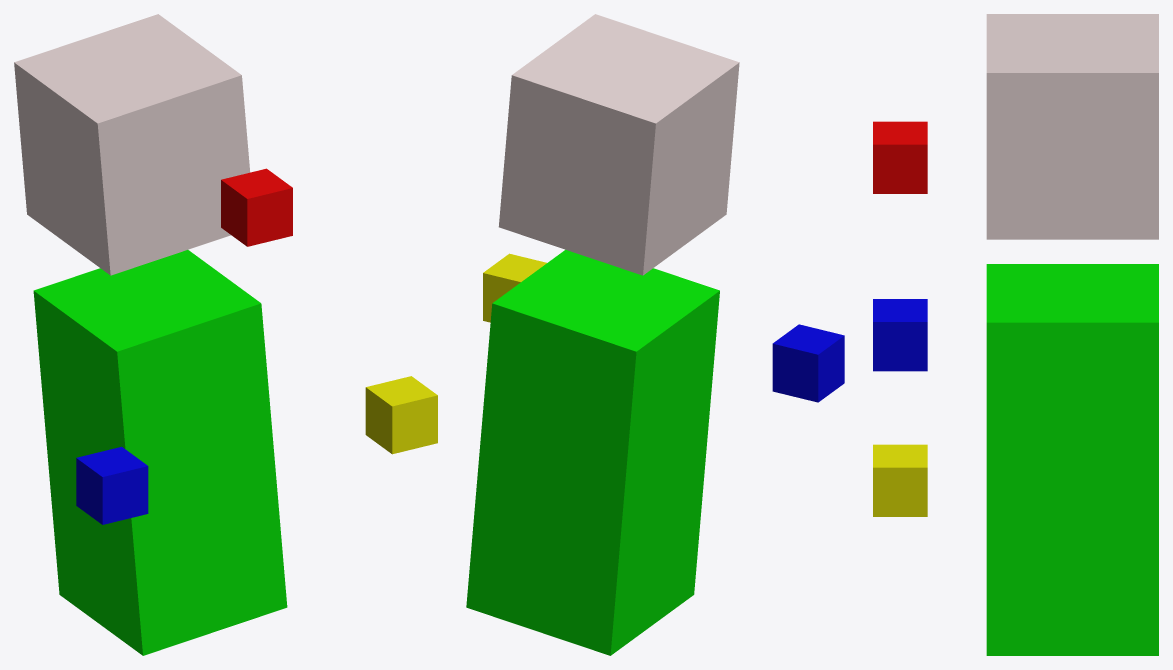
The model's file is Juggler.fbx.
The picture shows the model from 3 angles, left to right: view 1: azimuth 30°, elevation 25°; view 2: azimuth 150°, elevation 25°; view 3: azimuth 270°, elevation 25°; orthographic projection. The views are drawn at different scales.
Visible parts, largest first — view 1: JugglerMesh, Ball2, Ball1, Ball3; view 2: JugglerMesh, Ball1, Ball2; view 3: JugglerMesh, Ball3, Ball2, Ball1.
Part boxes in pixels (box(x1,y1,x2,y2)): JugglerMesh: box(14, 14, 287, 655); Ball2: box(365, 376, 437, 454); Ball1: box(76, 446, 148, 524); Ball3: box(221, 168, 292, 246); JugglerMesh: box(466, 14, 739, 655); Ball1: box(772, 324, 844, 402); Ball2: box(483, 253, 546, 322); JugglerMesh: box(986, 14, 1158, 655); Ball3: box(873, 121, 927, 193); Ball2: box(873, 444, 927, 516); Ball1: box(873, 299, 927, 371).
Bounding box in the file's own units: 1.16 × 1.84 × 0.8289.
